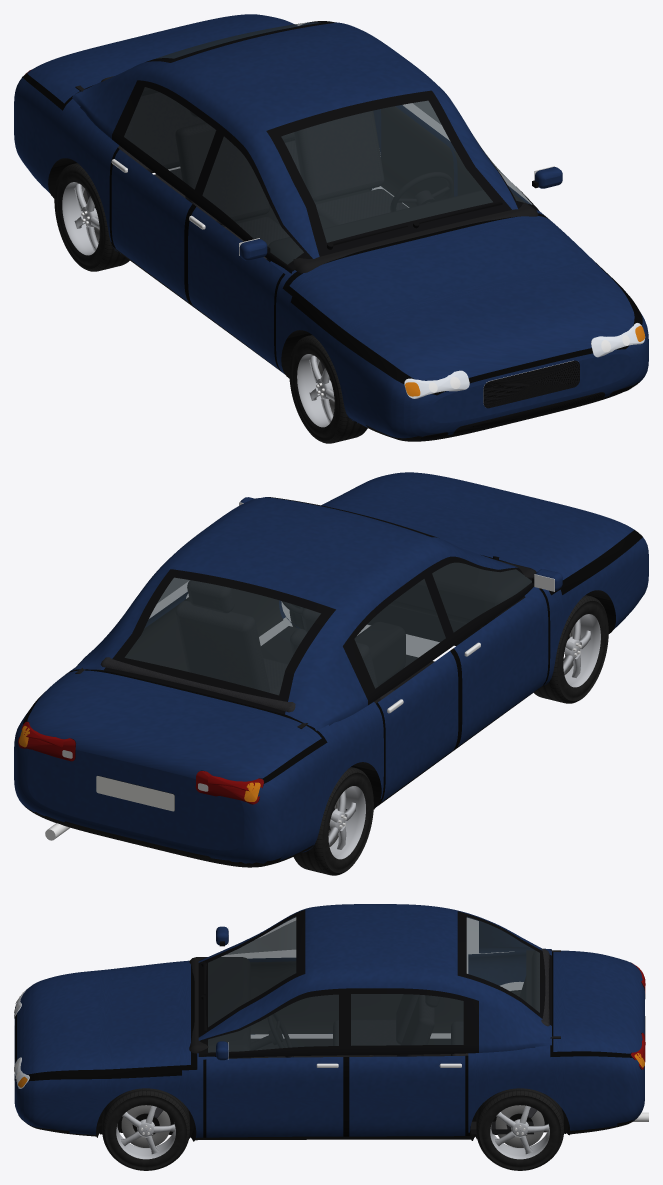
Rendered from car_sedan.glb.
3 views of the same model, one above another, from view 1: azimuth 30°, elevation 25°; view 2: azimuth 150°, elevation 25°; view 3: azimuth 270°, elevation 25° (orthographic). The views are drawn at different scales.
Visible parts, largest first — view 1: car_sedan, hood, door_FR, door_RR, trunk, door_RL, wheel_FR, wheel_RR, door_FL, steering_wheel; view 2: car_sedan, trunk, hood, door_FR, door_RR, wheel_RR, wheel_FR, door_RL, door_FL; view 3: car_sedan, door_FL, door_RL, hood, trunk, wheel_FL, wheel_RL, door_FR, door_RR, steering_wheel.
Part boxes in pixels (bbox=[...]): car_sedan: bbox=[14, 21, 648, 441]; hood: bbox=[289, 216, 634, 380]; door_FR: bbox=[188, 126, 308, 369]; door_RR: bbox=[111, 81, 220, 302]; trunk: bbox=[27, 14, 297, 103]; door_RL: bbox=[381, 101, 457, 207]; wheel_FR: bbox=[289, 335, 367, 443]; wheel_RR: bbox=[54, 163, 129, 271]; door_FL: bbox=[452, 134, 562, 206]; steering_wheel: bbox=[390, 172, 453, 211]; car_sedan: bbox=[14, 497, 648, 867]; trunk: bbox=[27, 670, 321, 780]; hood: bbox=[321, 472, 634, 579]; door_FR: bbox=[426, 556, 562, 746]; door_RR: bbox=[350, 571, 458, 801]; wheel_RR: bbox=[293, 767, 373, 875]; wheel_FR: bbox=[534, 595, 608, 703]; door_RL: bbox=[125, 578, 189, 671]; door_FL: bbox=[231, 497, 282, 636]; car_sedan: bbox=[14, 904, 648, 1141]; door_FL: bbox=[205, 988, 344, 1137]; door_RL: bbox=[348, 988, 466, 1136]; hood: bbox=[17, 960, 190, 1074]; trunk: bbox=[553, 950, 635, 1053]; wheel_FL: bbox=[102, 1088, 189, 1170]; wheel_RL: bbox=[476, 1088, 563, 1170]; door_FR: bbox=[205, 921, 338, 1034]; door_RR: bbox=[351, 994, 463, 1032]; steering_wheel: bbox=[267, 1013, 293, 1057].
Size of the model in its own units: 2.12 by 1.49 by 4.58.
Materials: 35 (9 with a texture image).
